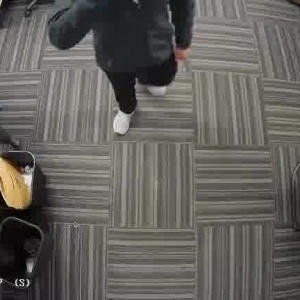person: (84, 0, 182, 131)
